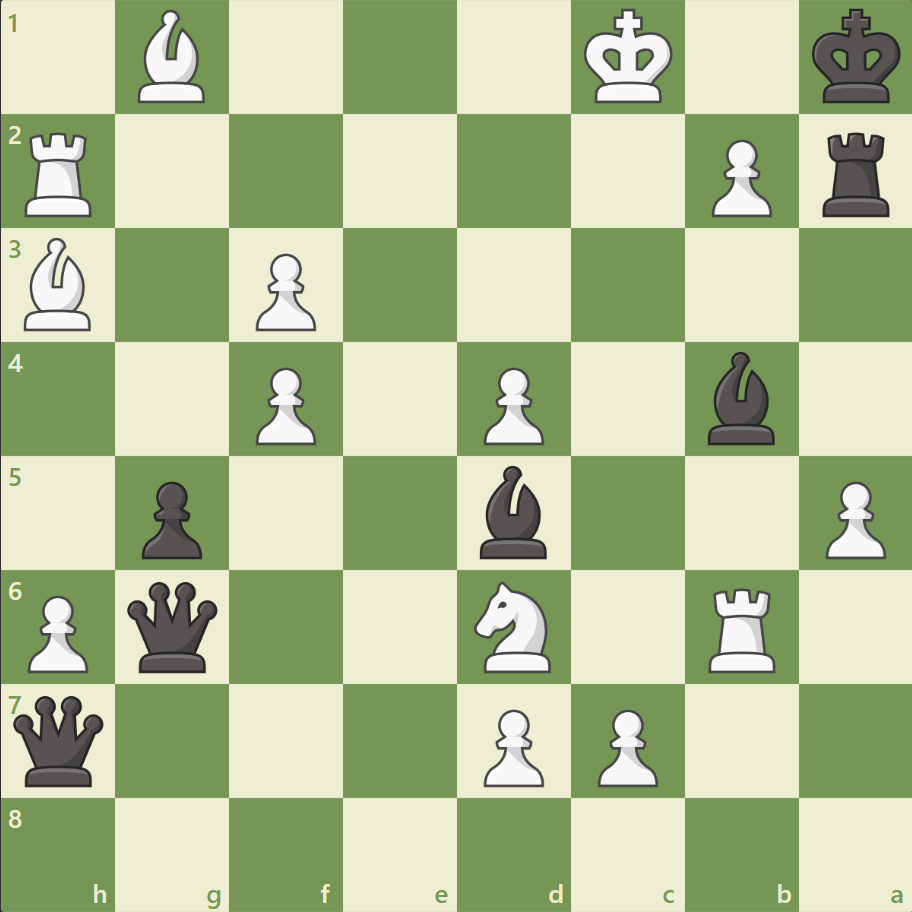B: (17, 233, 101, 336), (131, 6, 215, 109)
K: (579, 4, 679, 112)
N: (465, 575, 562, 677)
P: (474, 700, 549, 791), (20, 586, 95, 677), (474, 359, 549, 450), (247, 359, 322, 450), (247, 246, 322, 337), (701, 132, 776, 223), (588, 700, 662, 791), (815, 473, 889, 564)
R: (700, 579, 783, 676), (19, 125, 102, 222)
b: (471, 460, 555, 563), (698, 347, 782, 449)
k: (806, 4, 906, 112)
p: (133, 473, 208, 564)
q: (124, 576, 223, 676), (10, 690, 109, 789)
r: (814, 125, 897, 222)
